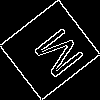M: (24, 25, 86, 87)
